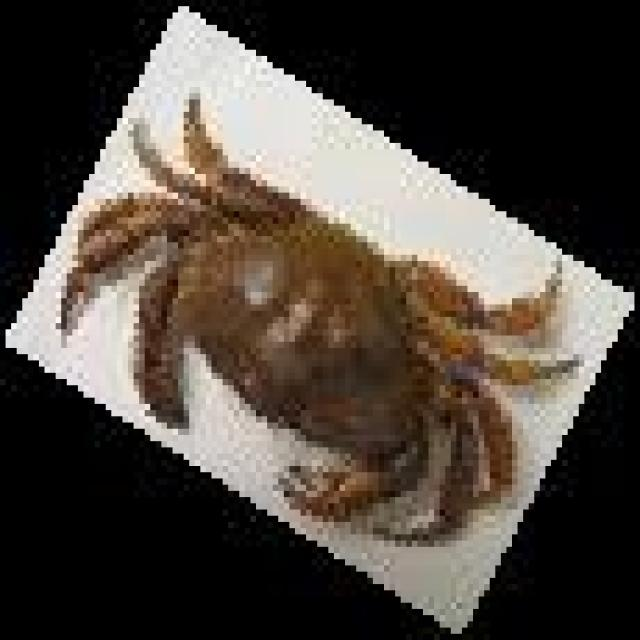Native Rock crab: (61, 93, 573, 541)
